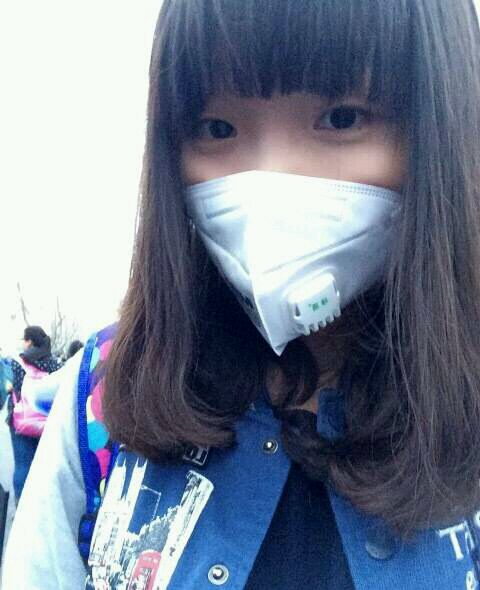face_mask: (179, 36, 405, 349)
